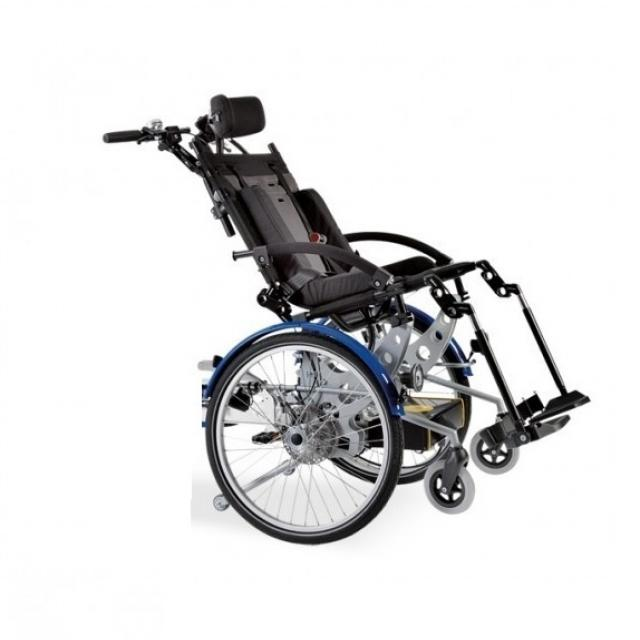wheelchair: (71, 78, 609, 560)
